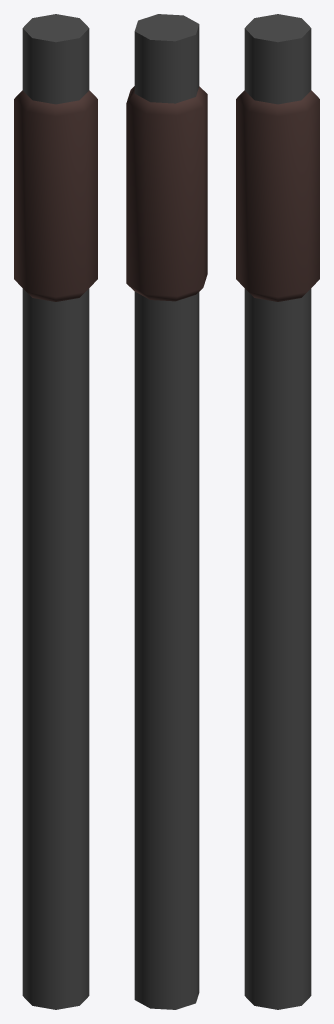
Rendered from lever.fbx.
The picture shows the model from 3 angles, left to right: view 1: azimuth 90°, elevation 25°; view 2: azimuth 150°, elevation 25°; view 3: azimuth 270°, elevation 25°; orthographic projection.
Visible parts, largest first — view 1: Lever; view 2: Lever; view 3: Lever.
Boxes of the visible parts, x1,y1,x2,y2 form: Lever: (14,14,97,1009); Lever: (126,14,207,1009); Lever: (236,14,319,1009).
Bounding box in the file's own units: 12.56 × 160 × 12.56.
